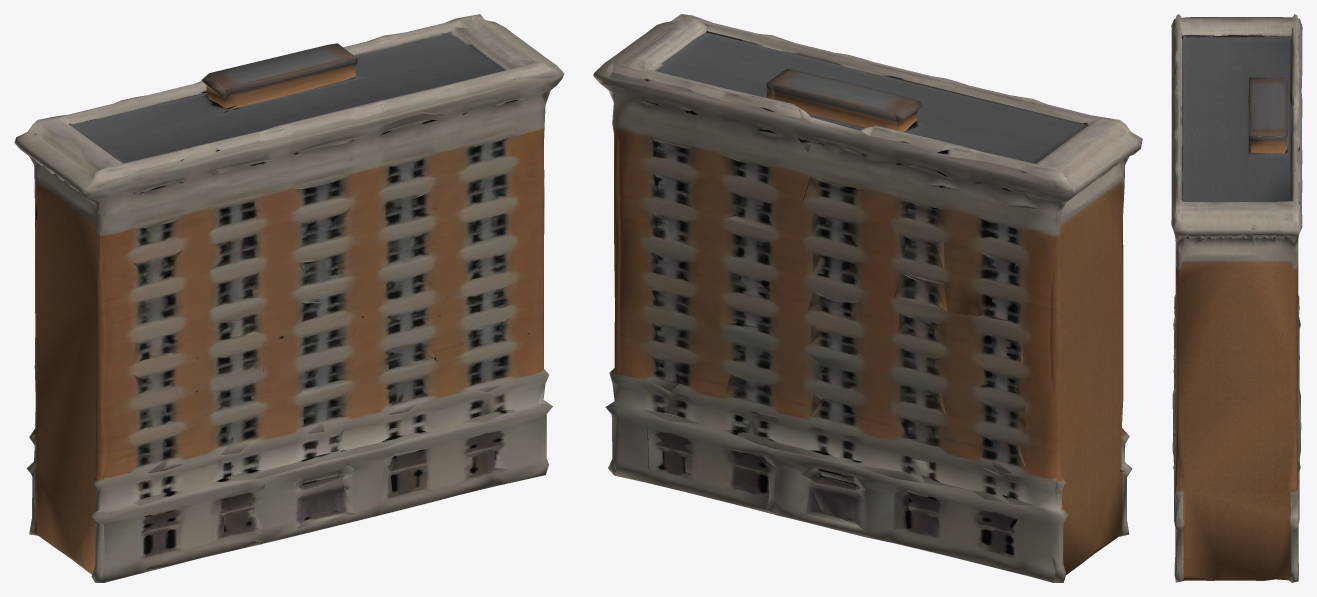
File: crane_company_building.glb
The picture shows the model from 3 angles, left to right: view 1: azimuth 30°, elevation 25°; view 2: azimuth 150°, elevation 25°; view 3: azimuth 270°, elevation 25°; orthographic projection. The views are drawn at different scales.
Parts seen in each view (by area): view 1: crane_company_building; view 2: crane_company_building; view 3: crane_company_building.
Boxes of the visible parts, box(x1,y1,x2,y2) form: crane_company_building: box(14, 14, 564, 582); crane_company_building: box(593, 14, 1142, 582); crane_company_building: box(1171, 14, 1302, 582).
Bounding box in the file's own units: 50 × 42 × 13.
1 material, 1 textured.
